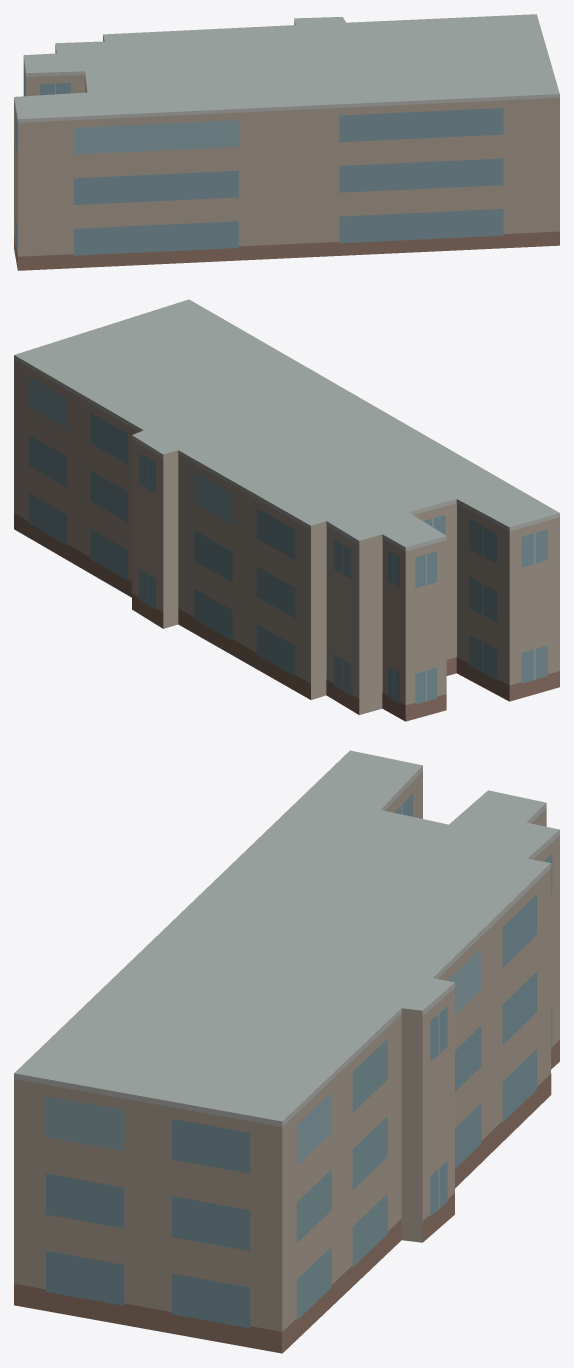
File: survey-upis-32469407.glb
3 renders of one model, top to bottom at view 1: azimuth 30°, elevation 25°; view 2: azimuth 150°, elevation 25°; view 3: azimuth 270°, elevation 25°, orthographic. The views are drawn at different scales.
Parts seen in each view (by area): view 1: survey-upis-32469407.tmp; view 2: survey-upis-32469407.tmp; view 3: survey-upis-32469407.tmp.
Part boxes in pixels (x1,y1,x2,y2): survey-upis-32469407.tmp: [14, 14, 559, 270]; survey-upis-32469407.tmp: [14, 299, 559, 721]; survey-upis-32469407.tmp: [14, 750, 559, 1353].
Size of the model in its own units: 35 by 10.2 by 21.76.
